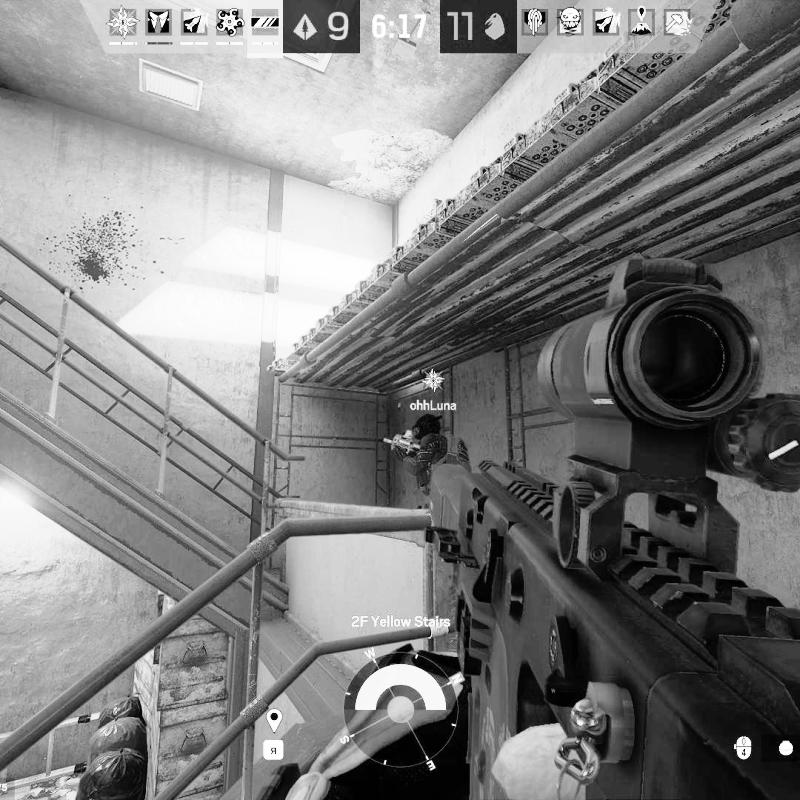Character: (381, 412, 471, 511)
Friend_label: (408, 366, 459, 412)
Head: (414, 413, 442, 440)
